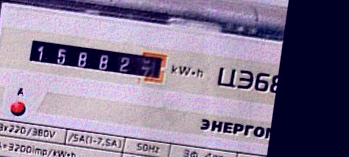1: (35, 44, 46, 62)
2: (118, 55, 130, 73)
5: (56, 47, 68, 65)
7: (140, 65, 150, 77)
8: (76, 51, 89, 69), (97, 53, 110, 71)
screen: (22, 31, 174, 90)
